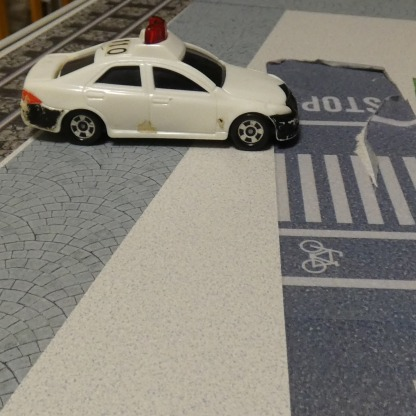car: (20, 24, 302, 149)
